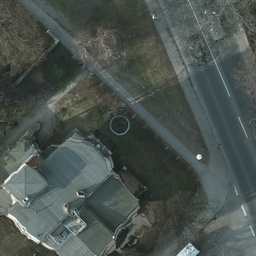car: (186, 35, 208, 76)
